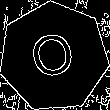O_S: (26, 26, 82, 88)
